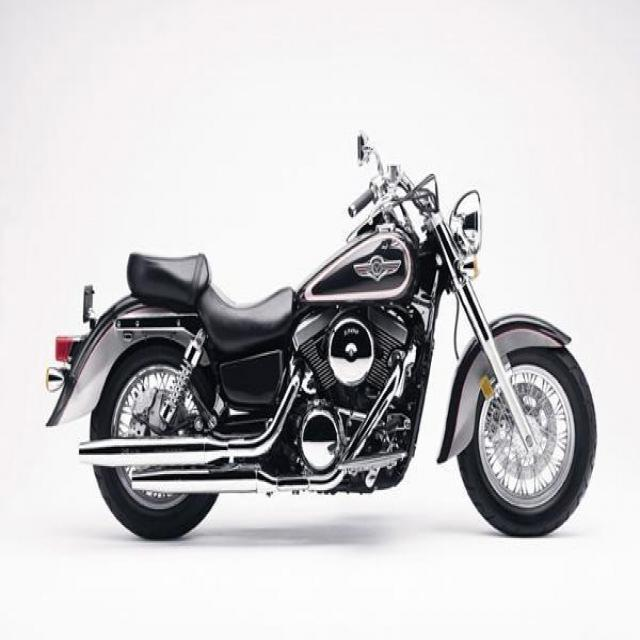Motorcycle: (52, 118, 600, 544)
